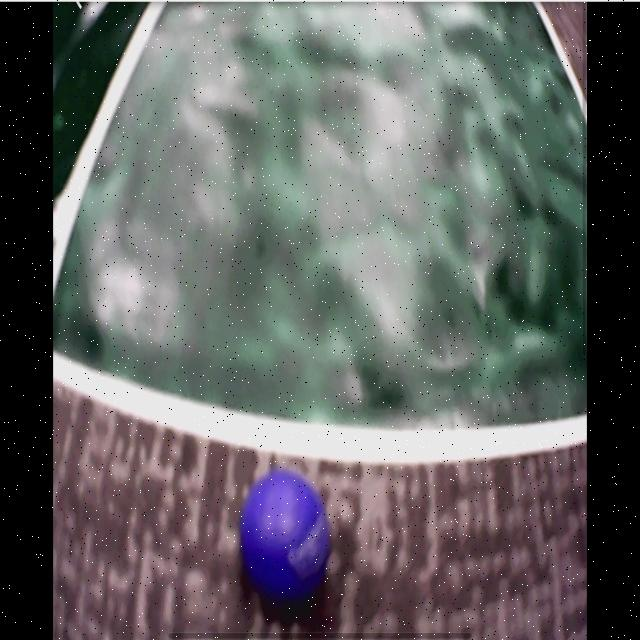ball: (242, 473, 330, 599)
